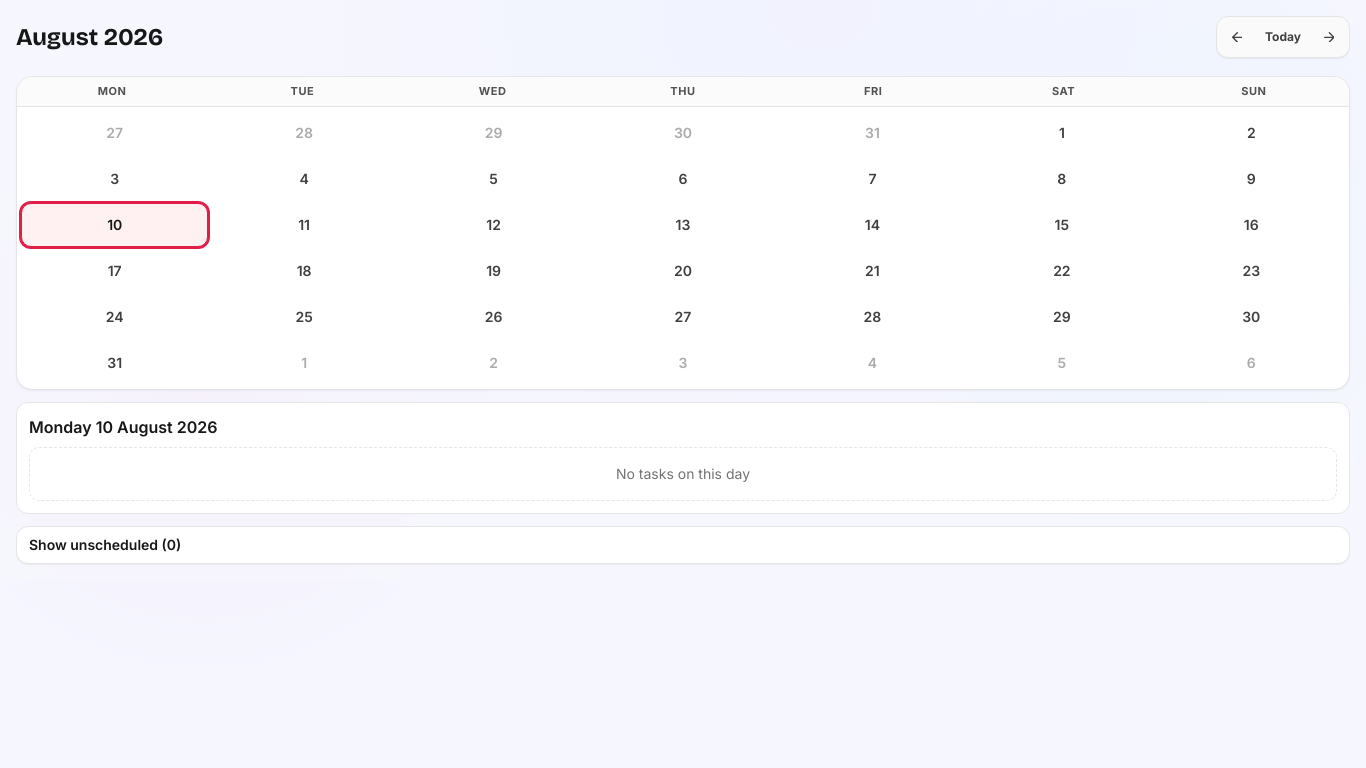
PlannerCalendar — mobile (compact grid + day agenda) › pages months from the mobile grid and keeps the Monday-first six-week grid correct
The width and height of the screenshot is (1366, 768).
expect the heading "August 2026" is shown: met, box [16,21,163,53]
Step 1. Click the button named "Next month" → (1329, 37), box [1313,21,1345,53]
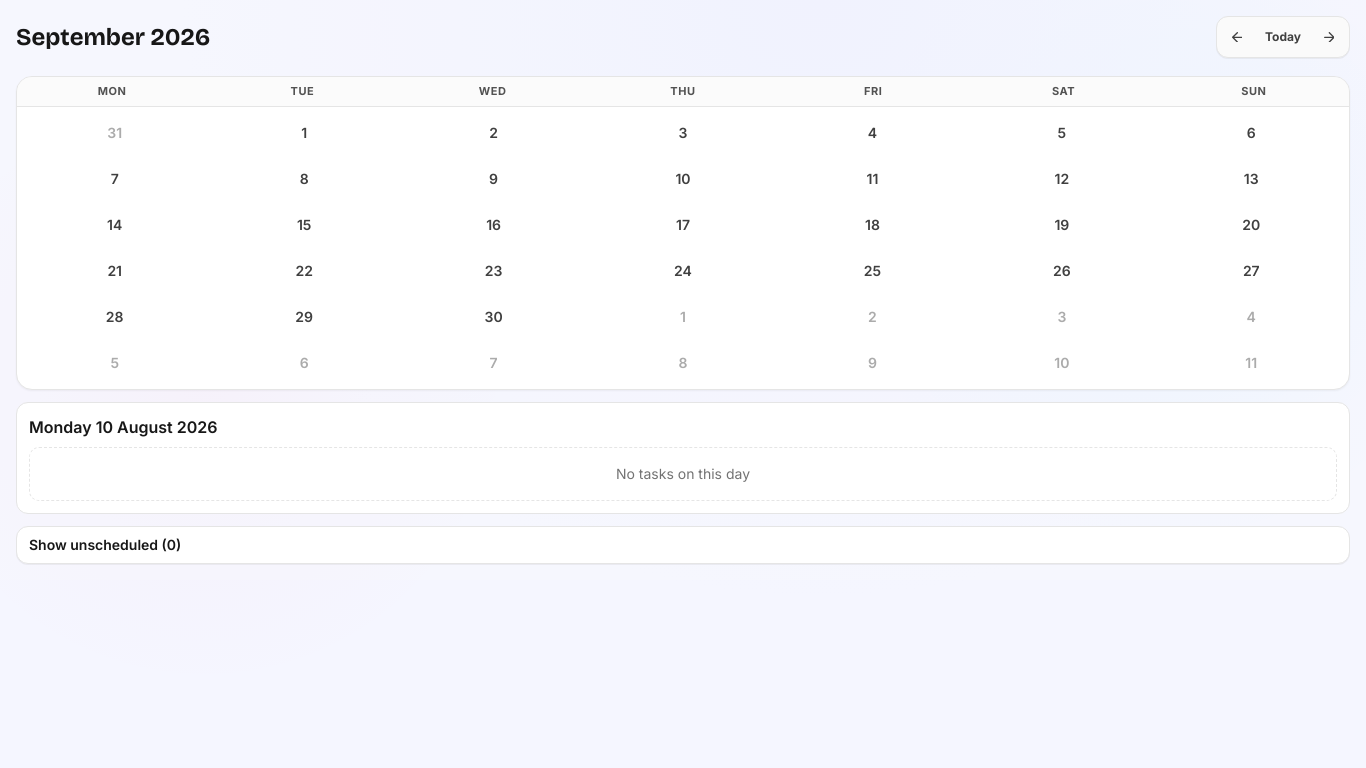
expect the heading "September 2026" is shown: met, box [16,21,210,53]
Step 2. Click the button named "Previous month" → (1237, 37), box [1221,21,1253,53]
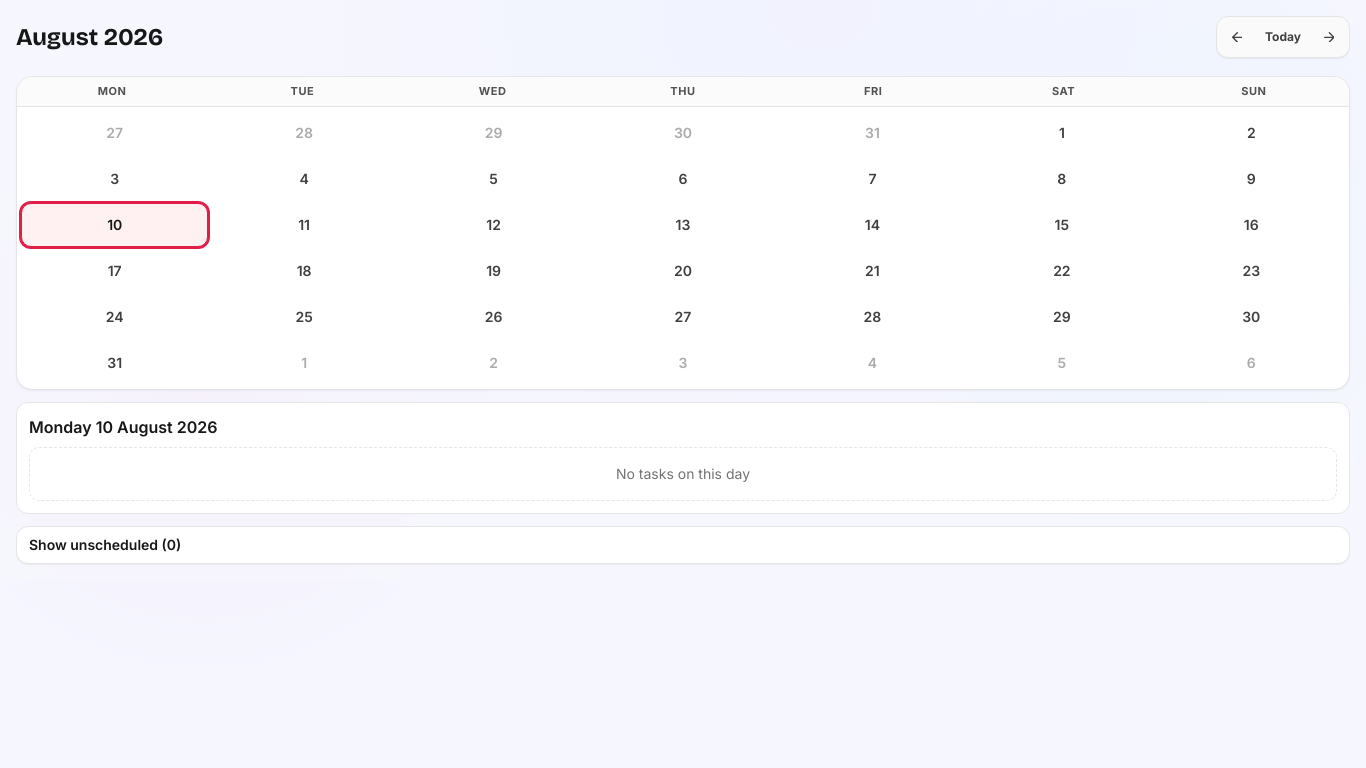
Step 3. Click the button named "Previous month" → (1237, 37), box [1221,21,1253,53]
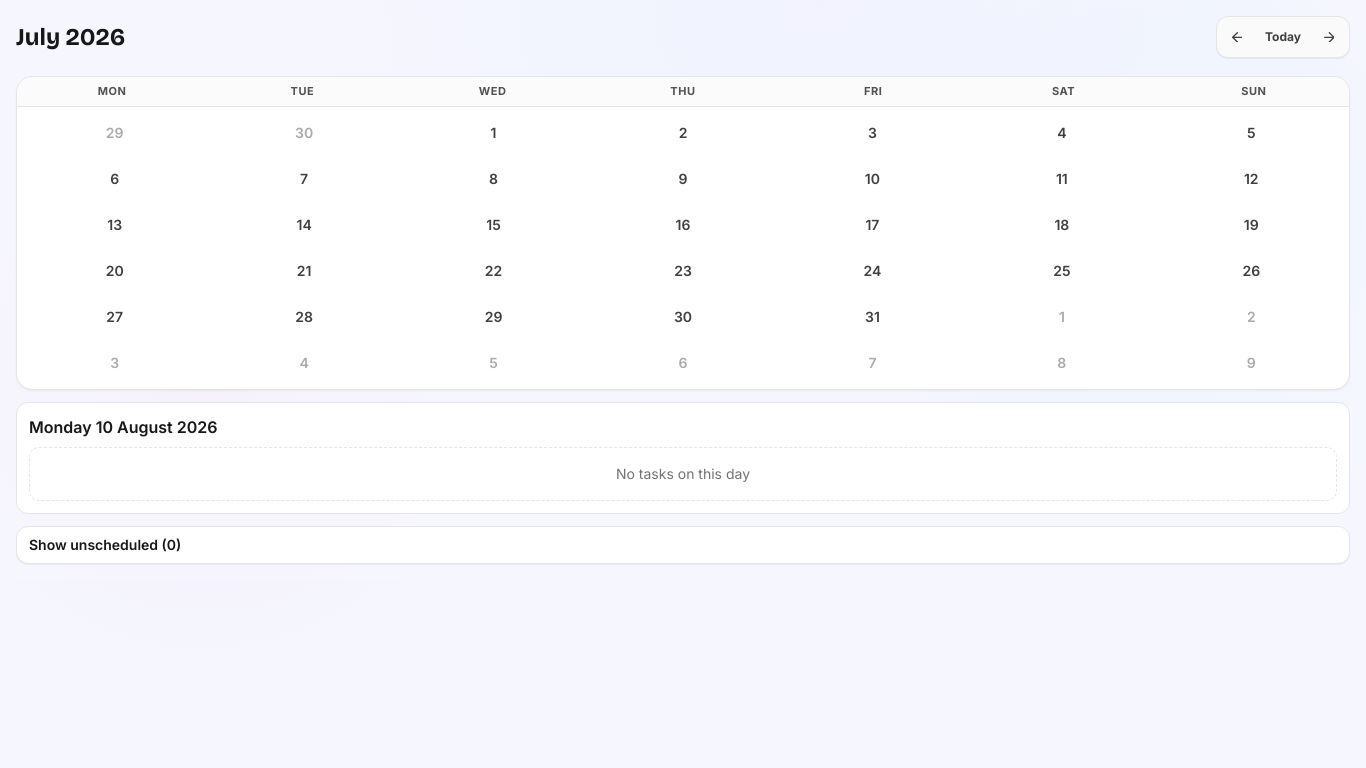
expect the heading "July 2026" is shown: met, box [16,21,125,53]
